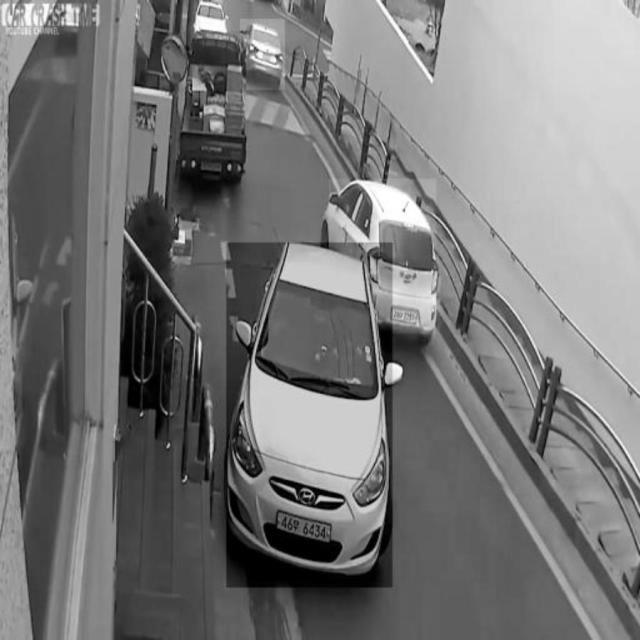vehicle: (227, 243, 393, 588), (329, 179, 437, 333), (179, 32, 246, 194), (240, 19, 285, 90)
